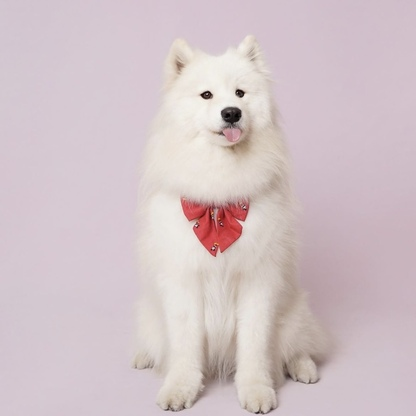samoyed: (127, 31, 339, 416)
